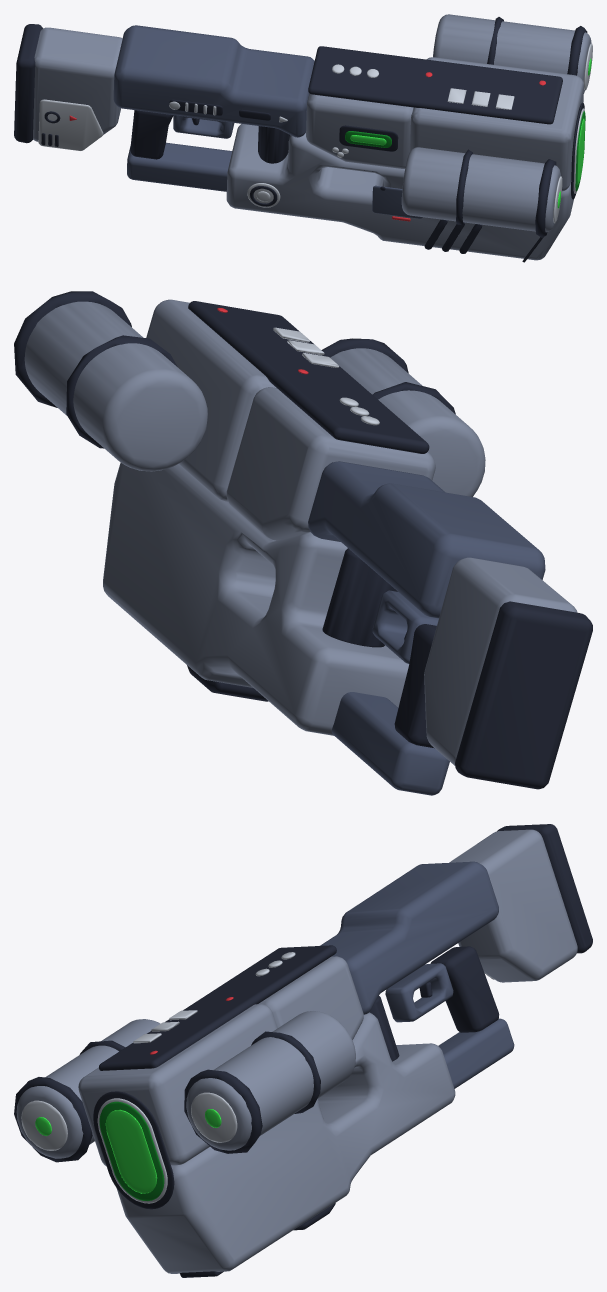
Rendered from bfg.glb.
3 renders of one model, top to bottom at view 1: azimuth 30°, elevation 25°; view 2: azimuth 150°, elevation 25°; view 3: azimuth 270°, elevation 25°, orthographic. The views are drawn at different scales.
Visible parts, largest first — view 1: bfg_pods, bfg_receiver, bfg_shroud, bfg_top_cover, bfg_housing, bfg_stock, bfg_front_block, bfg_bottom_bar, bfg_stock_panel, bfg_butt, bfg_pod_rings, bfg_grip (+11 smaller); view 2: bfg_shroud, bfg_pods, bfg_receiver, bfg_butt, bfg_front_block, bfg_stock, bfg_top_cover, bfg_housing, bfg_bottom_bar, bfg_pod_rings, bfg_column, bfg_grip (+3 smaller); view 3: bfg_shroud, bfg_pods, bfg_receiver, bfg_stock, bfg_housing, bfg_top_cover, bfg_front_block, bfg_pod_rings, bfg_grip, bfg_caps, bfg_bottom_bar, bfg_muzzle_core (+7 smaller).
Part boxes in pixels (x1,y1,x2,y2): bfg_pods: [401, 14, 591, 232]; bfg_receiver: [113, 25, 314, 137]; bfg_shroud: [226, 124, 573, 260]; bfg_top_cover: [308, 46, 562, 124]; bfg_housing: [410, 57, 583, 191]; bfg_stock: [33, 27, 122, 141]; bfg_front_block: [306, 93, 413, 168]; bfg_bottom_bar: [127, 142, 232, 191]; bfg_stock_panel: [38, 99, 103, 150]; bfg_butt: [14, 24, 42, 143]; bfg_pod_rings: [456, 17, 587, 237]; bfg_grip: [130, 110, 173, 159]; bfg_shroud: [103, 462, 409, 735]; bfg_pods: [24, 301, 485, 496]; bfg_receiver: [308, 461, 545, 618]; bfg_butt: [455, 601, 592, 789]; bfg_front_block: [226, 387, 435, 540]; bfg_stock: [424, 557, 577, 765]; bfg_top_cover: [188, 301, 429, 453]; bfg_housing: [146, 299, 276, 501]; bfg_bottom_bar: [331, 692, 449, 795]; bfg_pod_rings: [14, 291, 455, 448]; bfg_column: [322, 548, 397, 647]; bfg_grip: [394, 624, 436, 748]; bfg_shroud: [116, 1012, 455, 1273]; bfg_pods: [16, 1011, 355, 1158]; bfg_receiver: [320, 861, 498, 1014]; bfg_stock: [449, 829, 577, 982]; bfg_housing: [78, 1004, 277, 1166]; bfg_top_cover: [99, 945, 336, 1070]; bfg_front_block: [258, 956, 363, 1039]; bfg_pod_rings: [14, 1031, 320, 1162]; bfg_grip: [430, 946, 499, 1032]; bfg_caps: [21, 1092, 237, 1150]; bfg_bottom_bar: [438, 1018, 514, 1088]; bfg_muzzle_core: [105, 1109, 157, 1193].
Bounding box in the file's own units: 2.79 × 1.2 × 2.52.
